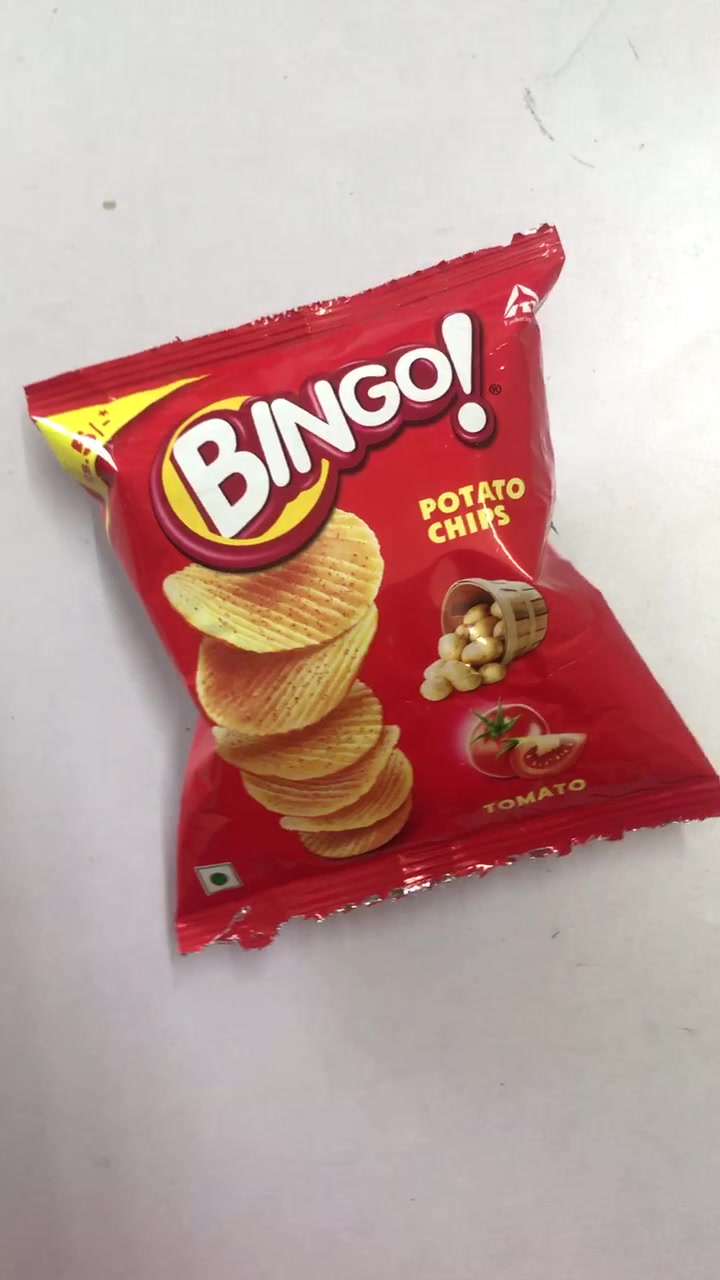Bingo: (42, 280, 720, 931)
